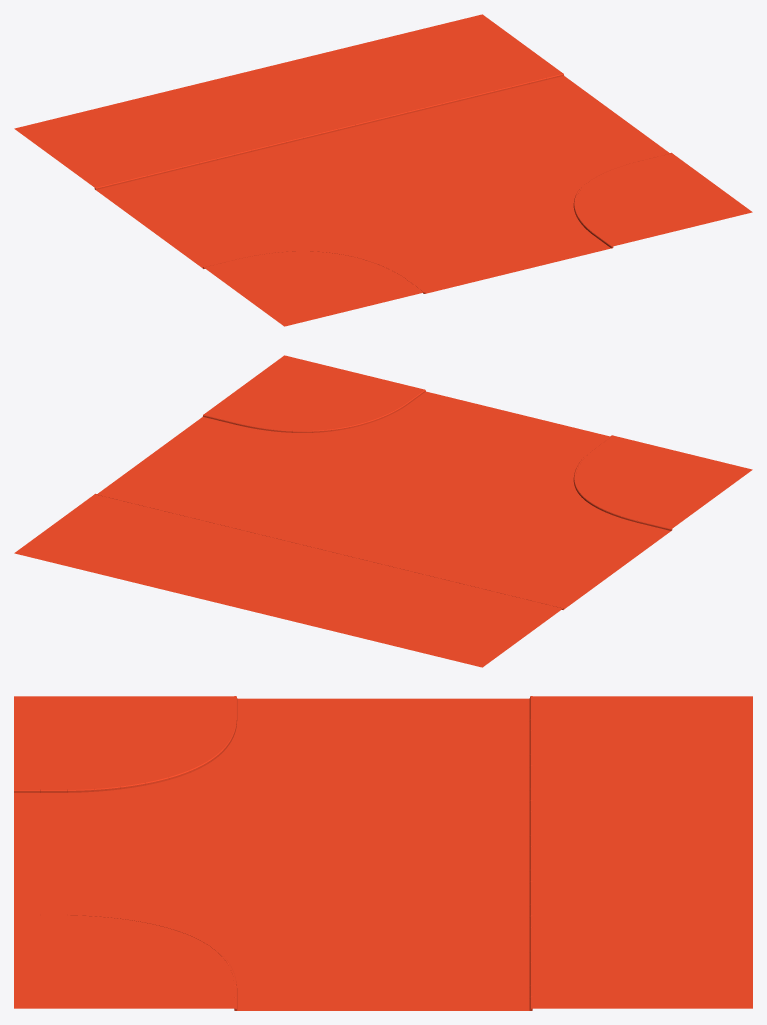
Rendered from SM_Mainroad_T_Crosswalk_30x30_City.fbx.
3 views of the same model, one above another, from view 1: azimuth 30°, elevation 25°; view 2: azimuth 150°, elevation 25°; view 3: azimuth 270°, elevation 25° (orthographic). The views are drawn at different scales.
Visible parts, largest first — view 1: SM_Mainroad_T_Crosswalk_30x30_City; view 2: SM_Mainroad_T_Crosswalk_30x30_City; view 3: SM_Mainroad_T_Crosswalk_30x30_City.
Boxes of the visible parts, left/top/right/bottom form: SM_Mainroad_T_Crosswalk_30x30_City: left=14, top=14, right=752, bottom=326; SM_Mainroad_T_Crosswalk_30x30_City: left=14, top=355, right=752, bottom=667; SM_Mainroad_T_Crosswalk_30x30_City: left=14, top=696, right=752, bottom=1010.
Size of the model in its own units: 30 by 0.1084 by 30.
